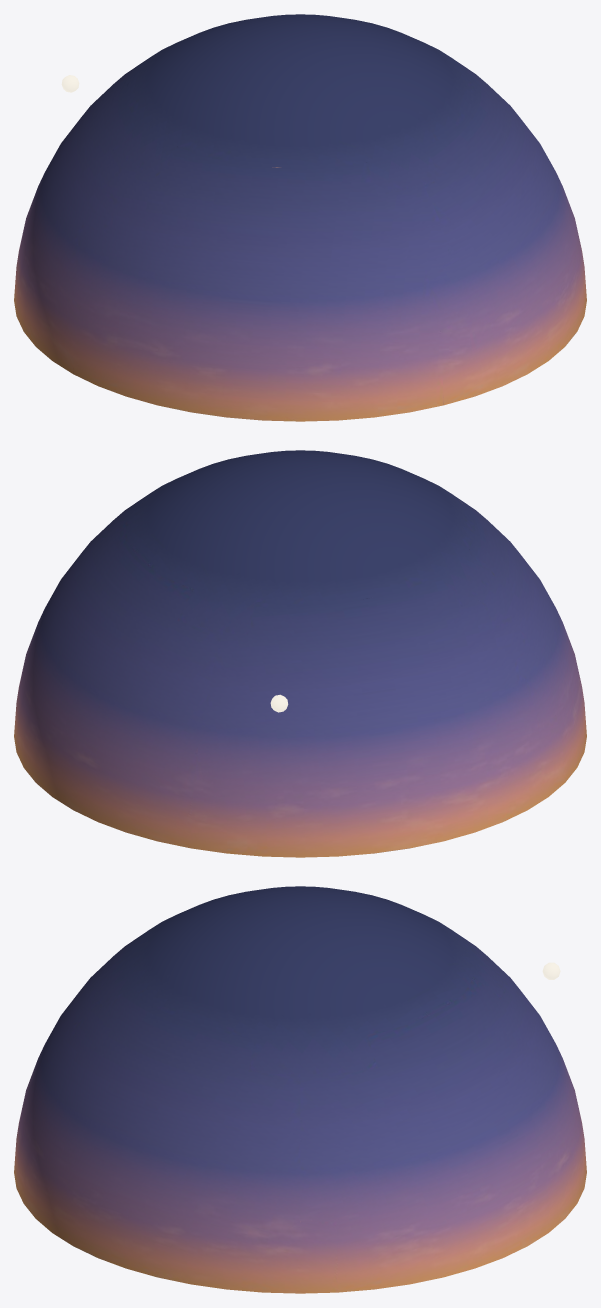
The model's file is rpg.glb.
3 views of the same model, one above another, from view 1: azimuth 30°, elevation 25°; view 2: azimuth 150°, elevation 25°; view 3: azimuth 270°, elevation 25° (orthographic).
Visible parts, largest first — view 1: sky; view 2: sky; view 3: sky.
Part boxes in pixels (bbox=[...]): sky: bbox=[14, 14, 586, 421]; sky: bbox=[14, 450, 586, 857]; sky: bbox=[14, 886, 586, 1293].
Bounding box in the file's own units: 190 × 95.67 × 190.
Materials: 16 (4 with a texture image).
